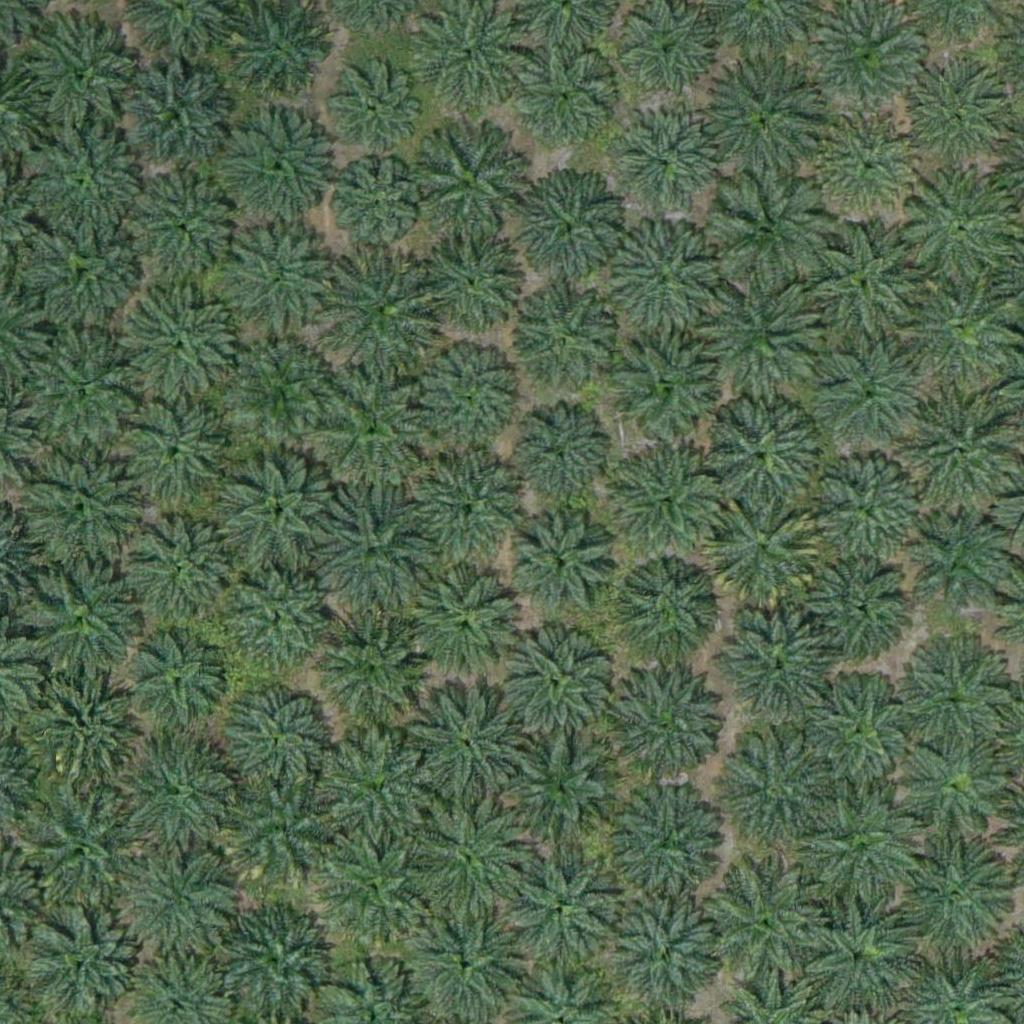Kelapa_Sawit: (894, 394, 1019, 520), (893, 169, 1018, 295), (798, 226, 923, 352), (696, 398, 821, 524), (690, 277, 815, 403), (714, 173, 839, 299), (703, 56, 828, 182), (605, 325, 730, 451), (307, 495, 432, 621), (322, 249, 447, 375), (218, 458, 343, 584), (893, 634, 1018, 760), (800, 670, 925, 796), (18, 447, 143, 573), (18, 329, 143, 455), (25, 213, 150, 339), (25, 129, 150, 255), (29, 656, 154, 782), (19, 779, 144, 905), (115, 846, 240, 972), (116, 736, 241, 862), (402, 794, 527, 920), (605, 662, 730, 788), (608, 780, 733, 906), (701, 862, 826, 988), (708, 730, 833, 856), (713, 602, 838, 728), (797, 793, 922, 919), (791, 896, 916, 1022), (889, 834, 1014, 960), (703, 495, 828, 620), (605, 437, 730, 562), (403, 680, 528, 805), (504, 842, 629, 967), (504, 730, 629, 855), (604, 893, 729, 1018), (815, 4, 928, 118), (811, 108, 924, 222), (119, 395, 232, 509), (132, 518, 245, 632), (900, 512, 1013, 625), (814, 338, 927, 451), (812, 452, 925, 565), (410, 127, 523, 240), (413, 335, 526, 448), (128, 292, 241, 405), (224, 564, 337, 677), (317, 728, 430, 841), (219, 683, 332, 796), (226, 781, 339, 894), (903, 56, 1015, 169), (614, 105, 726, 218), (609, 227, 721, 340), (511, 173, 623, 286), (417, 456, 529, 569), (311, 373, 423, 486), (222, 115, 334, 228), (222, 227, 334, 340), (27, 566, 139, 679), (317, 607, 429, 720), (413, 569, 525, 682), (619, 5, 719, 106), (807, 553, 907, 654), (617, 553, 717, 654), (512, 513, 612, 614), (504, 406, 604, 507), (514, 289, 614, 390), (512, 48, 612, 149), (420, 234, 520, 335), (325, 158, 425, 259), (321, 58, 421, 159), (229, 2, 329, 103), (226, 340, 326, 441), (118, 71, 218, 172), (35, 24, 135, 125), (145, 178, 245, 279), (127, 633, 227, 734), (325, 834, 425, 935), (507, 636, 607, 737), (905, 742, 1005, 842)
